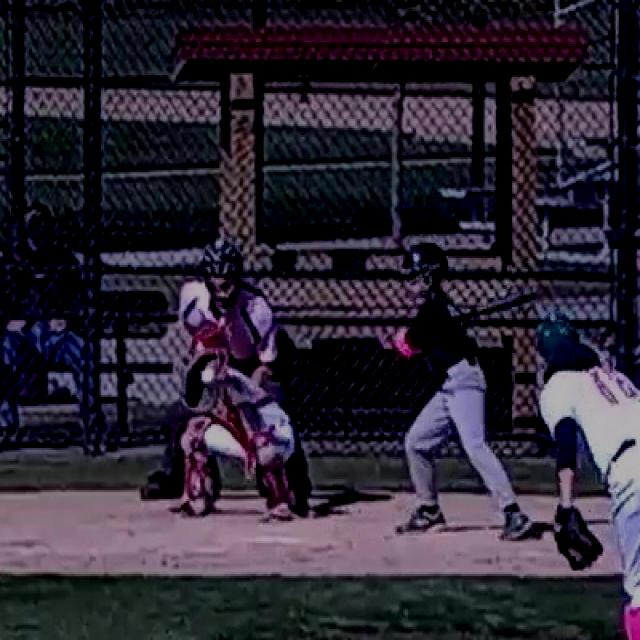sports ball: (199, 368, 217, 384)
